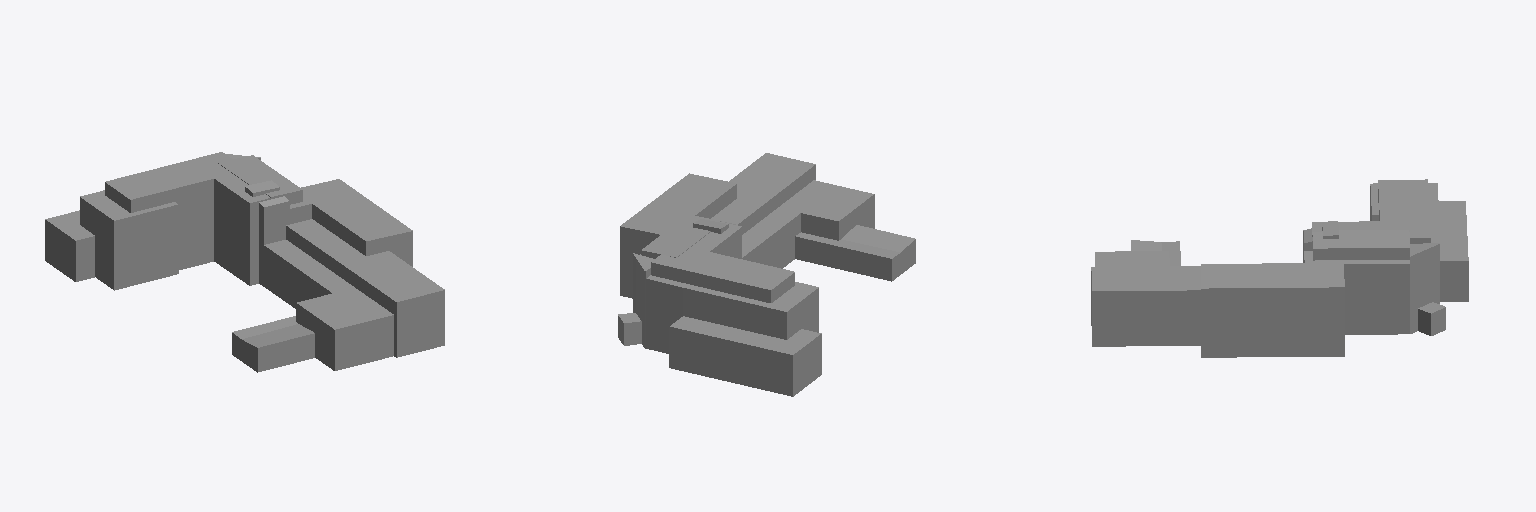
Rendered from talo_build0000007_rotated.obj.
3 views of the same model, side by side, from view 1: azimuth 30°, elevation 25°; view 2: azimuth 150°, elevation 25°; view 3: azimuth 270°, elevation 25° (orthographic).
Visible parts, largest first — view 1: talo_Build[number redacted]; view 2: talo_Build[number redacted]; view 3: talo_Build[number redacted].
Boxes of the visible parts, x1=… form: talo_Build[number redacted]: x1=45, y1=152, x2=444, y2=372; talo_Build[number redacted]: x1=618, y1=153, x2=915, y2=396; talo_Build[number redacted]: x1=1091, y1=179, x2=1468, y2=357.
Bounding box in the file's own units: 5.68 × 2.03 × 7.87.